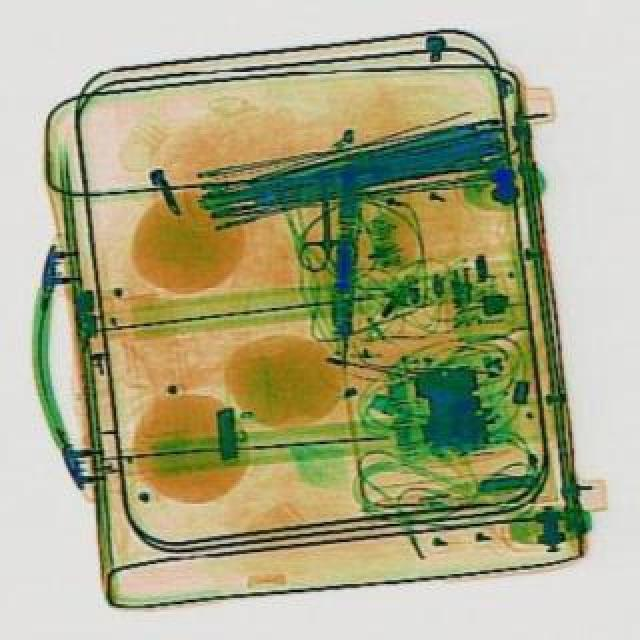pliers: (294, 178, 356, 270)
